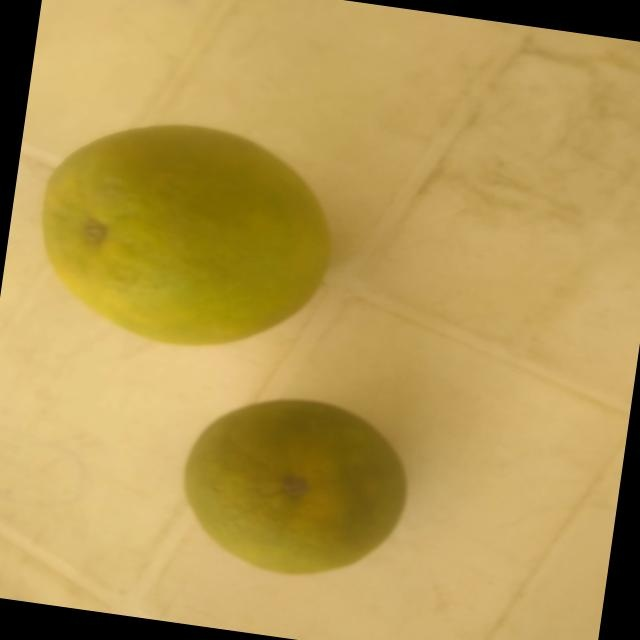agrume: (161, 388, 426, 596)
